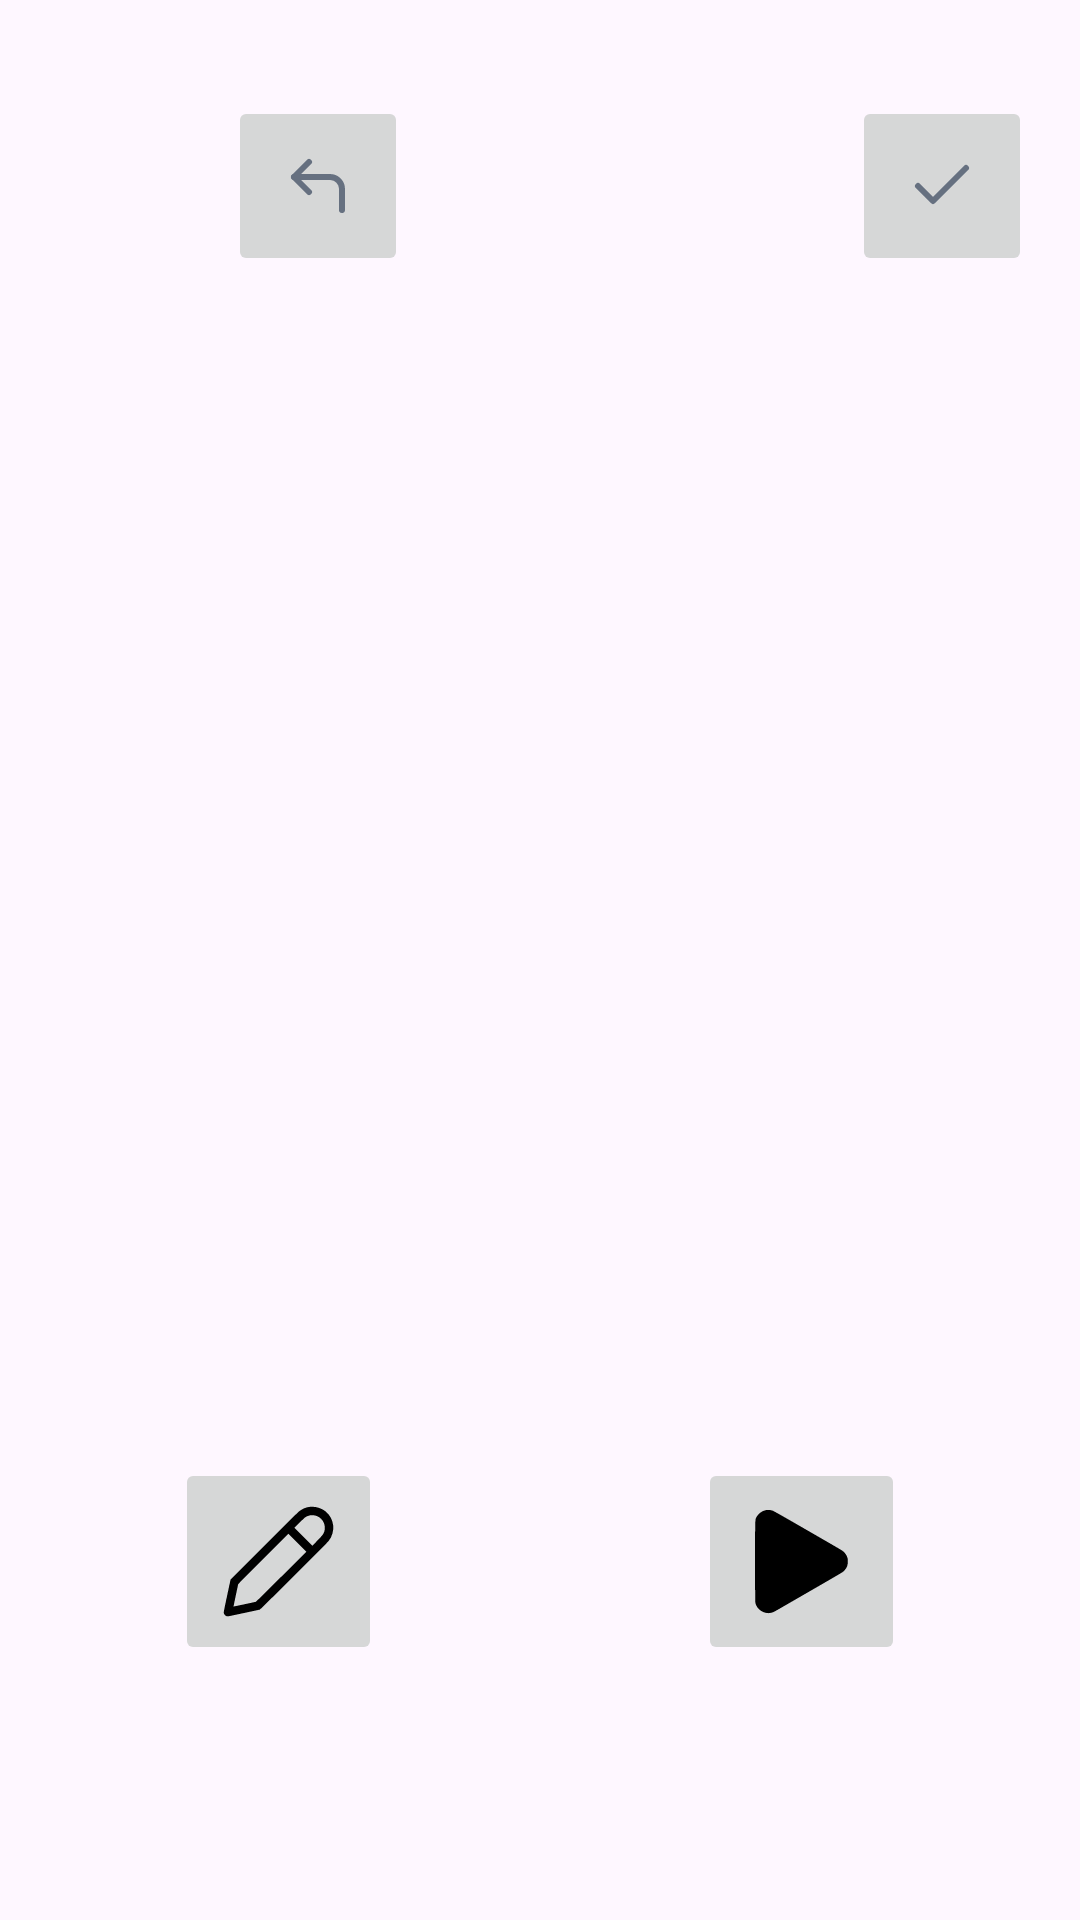

Named icons in this screenshot (1080 × 1920) and their bounding boxes, (x1, y1, x2, y2):
check: (864, 114, 1020, 258)
corner up left: (240, 114, 396, 258)
draw points: (187, 1476, 370, 1647)
start: (710, 1476, 893, 1647)
